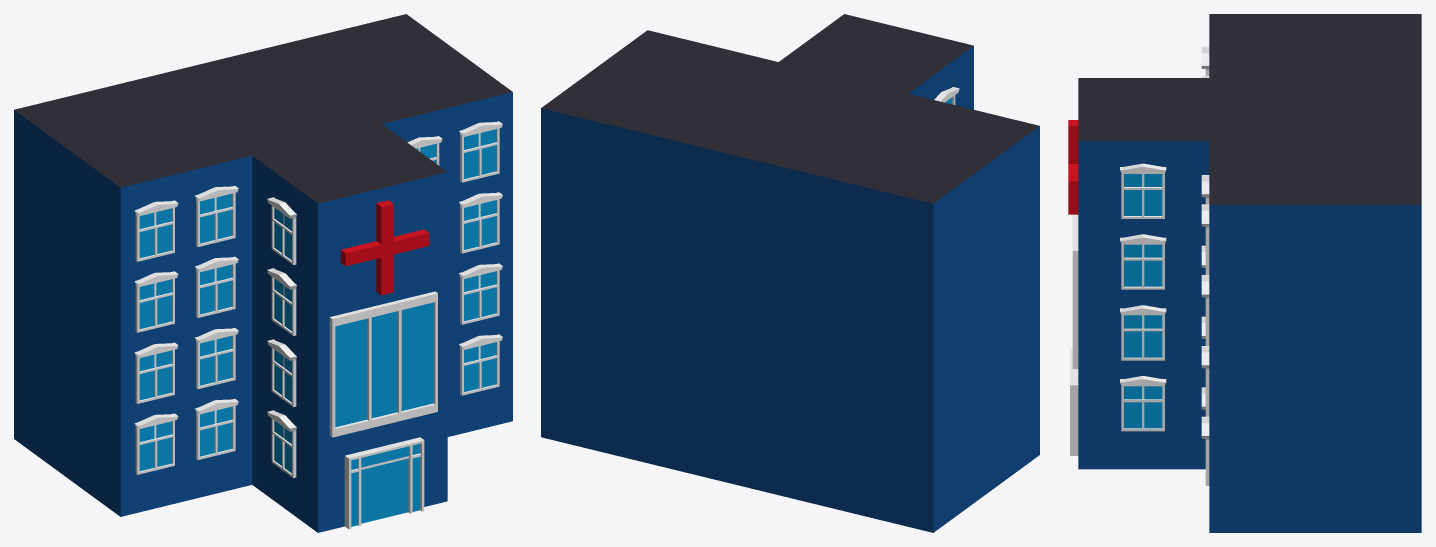
File: Building_20.fbx
3 renders of one model, left to right at view 1: azimuth 30°, elevation 25°; view 2: azimuth 150°, elevation 25°; view 3: azimuth 270°, elevation 25°, orthographic.
Visible parts, largest first — view 1: B20; view 2: B20; view 3: B20.
Boxes of the visible parts, x1,y1,x2,y2 form: B20: [14, 14, 512, 532]; B20: [541, 14, 1039, 532]; B20: [1068, 14, 1421, 532].
Size of the model in its own units: 26 by 20.85 by 20.34.
Materials: 1 (1 with a texture image).
